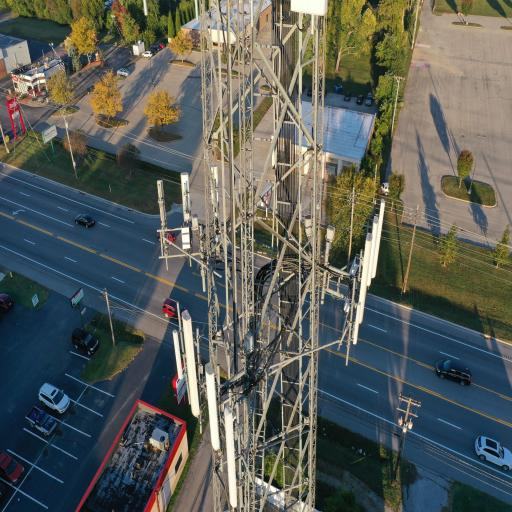supporting_tower: (142, 0, 386, 512)
